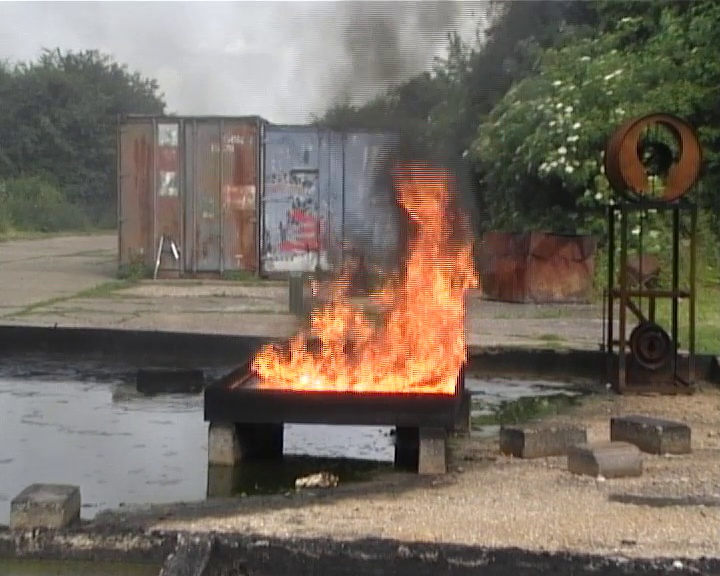fire: (253, 187, 471, 392)
